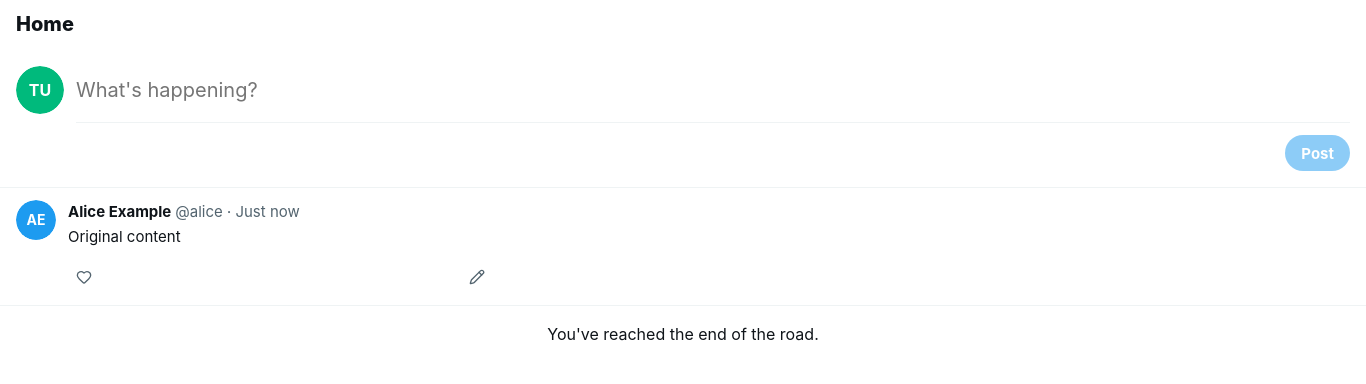
Test: TimelinePage › saves edited post successfully
Click the button with test id "post-edit-button-1" at (477, 276), box 461,260 -> 493,292
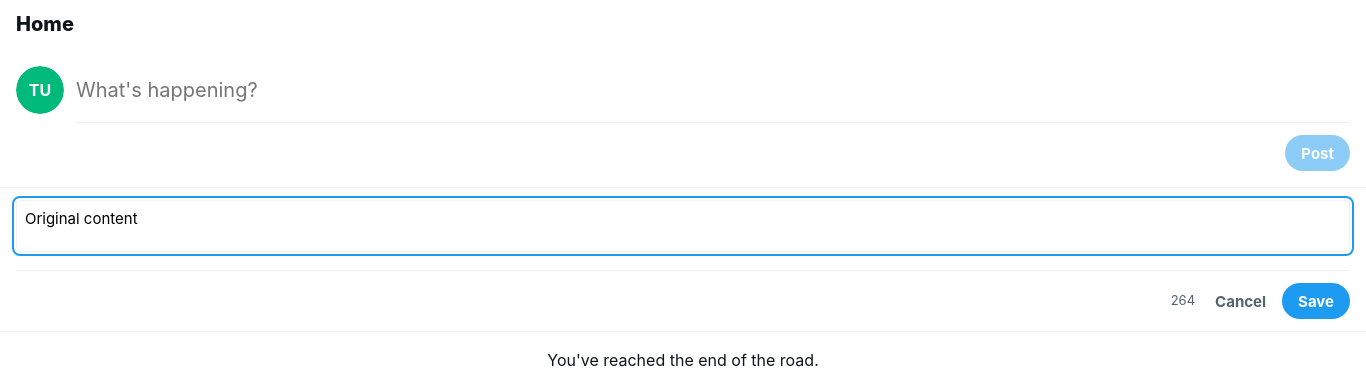
Replace the text in the text box with test id "post-editor-body-input-1" with "Updated content" at (683, 226), box 16,200 -> 1350,252
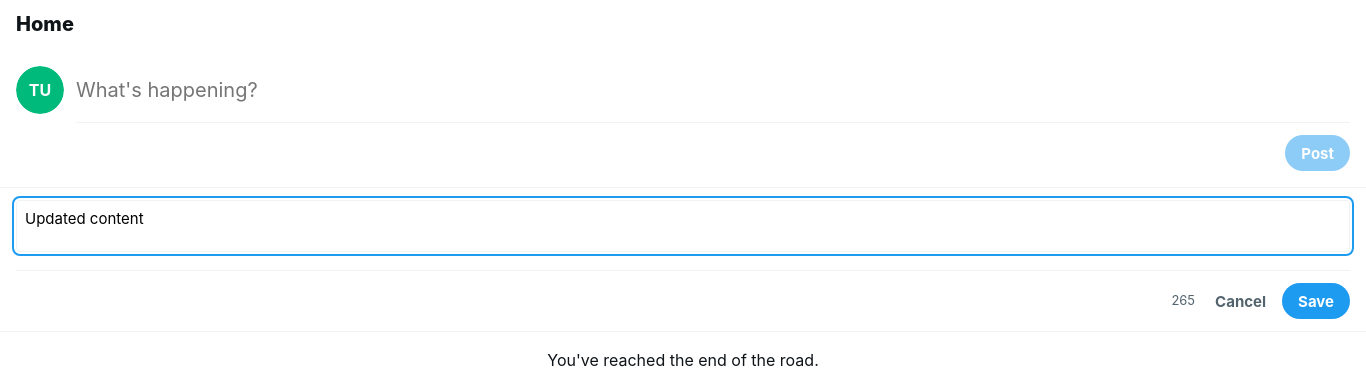
Click the button "Save" at (1316, 301), box 1282,283 -> 1350,319
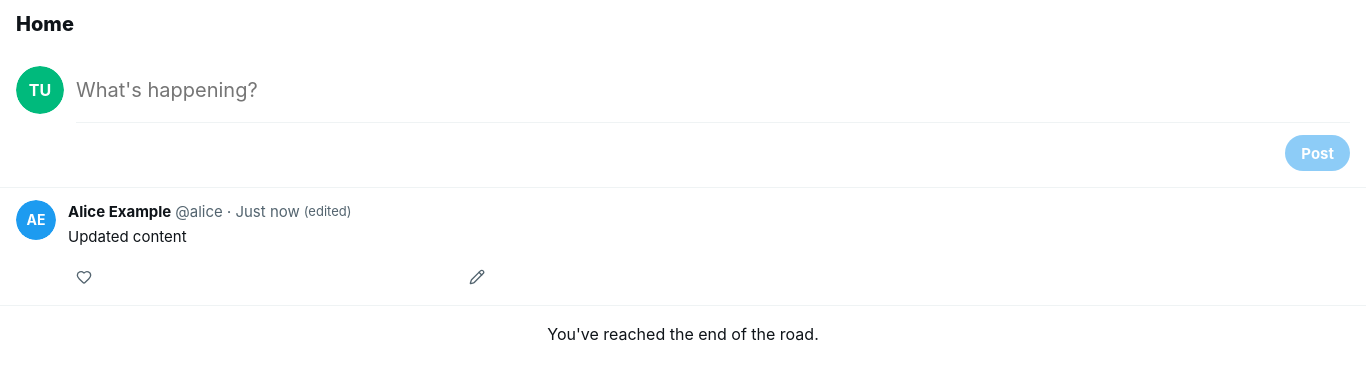
Check: the text "Updated content" is shown, box 68,227 -> 187,246
Check: the text "(edited)" is shown, box 304,202 -> 352,222
